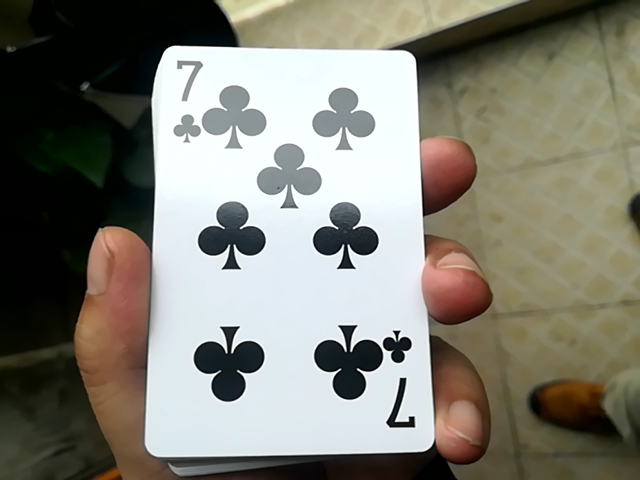mh 7: (127, 44, 442, 457)
